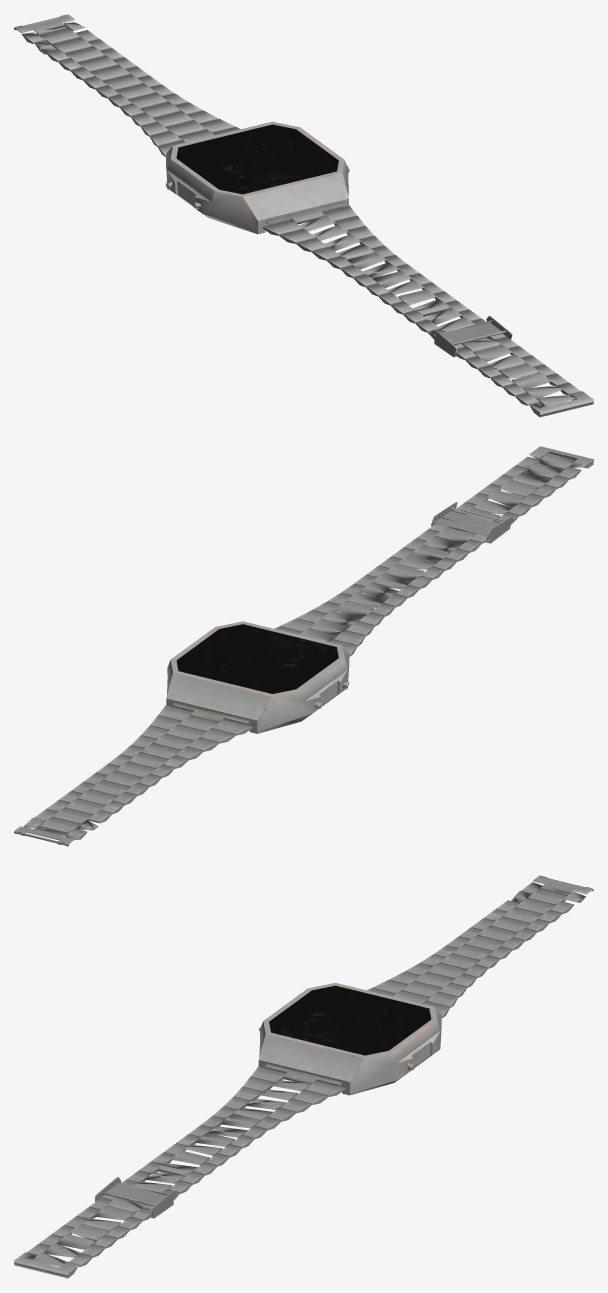
File: digital_wrist_watch_lod1.glb
The picture shows the model from 3 angles, top to bottom: view 1: azimuth 30°, elevation 25°; view 2: azimuth 150°, elevation 25°; view 3: azimuth 330°, elevation 25°; orthographic projection.
Parts seen in each view (by area): view 1: digital_wrist_watch; view 2: digital_wrist_watch; view 3: digital_wrist_watch.
Boxes of the visible parts, x1=… form: digital_wrist_watch: x1=14, y1=14, x2=593, y2=417; digital_wrist_watch: x1=14, y1=446, x2=593, y2=846; digital_wrist_watch: x1=14, y1=875, x2=593, y2=1278.
Size of the model in its own units: 0.0365 by 0.00834 by 0.2169.
Materials: 2 (2 with a texture image).
